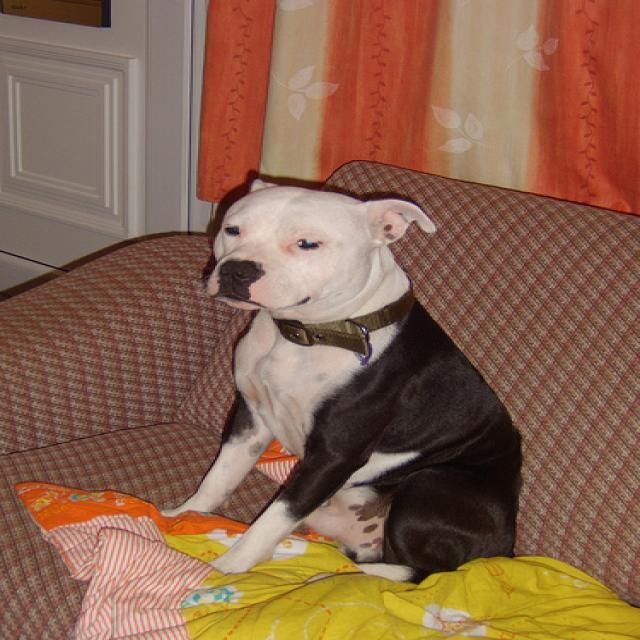dog-staffordshire_bull_terrier: (155, 174, 536, 594)
